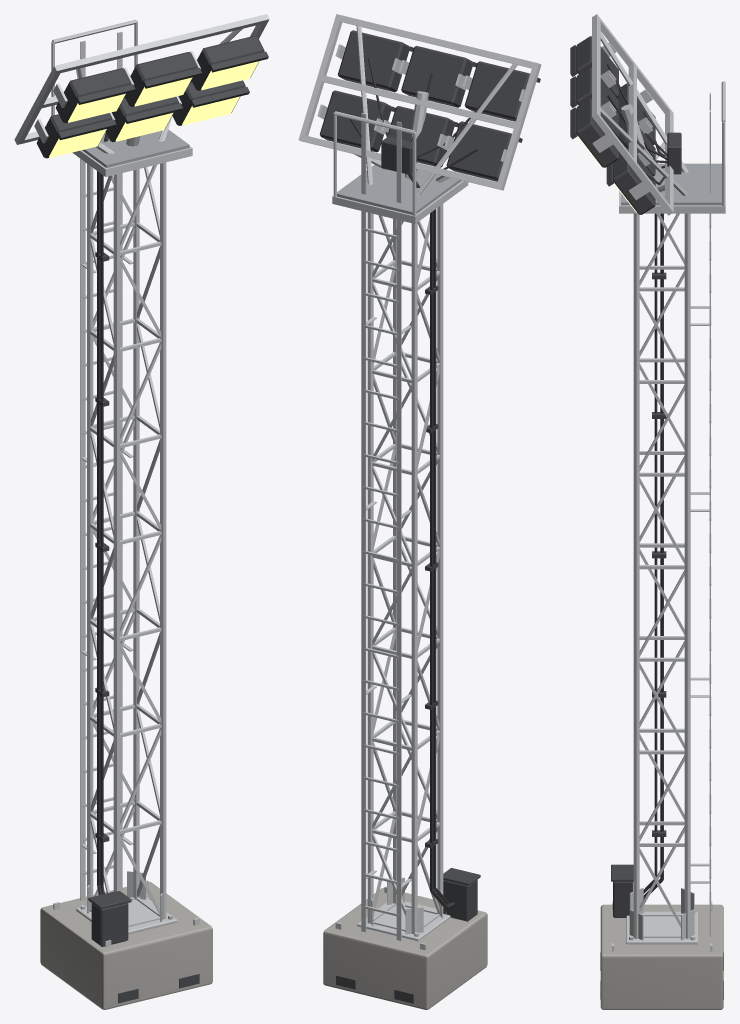
The model's file is flood_tower.glb.
3 renders of one model, left to right at view 1: azimuth 30°, elevation 25°; view 2: azimuth 150°, elevation 25°; view 3: azimuth 270°, elevation 25°, orthographic. The views are drawn at different scales.
Parts seen in each view (by area): view 1: flood_tower; view 2: flood_tower; view 3: flood_tower.
Part boxes in pixels (<box>): flood_tower: <box>14,14,269,1009</box>; flood_tower: <box>298,14,541,1009</box>; flood_tower: <box>570,14,725,1009</box>.
Size of the model in its own units: 2.3 by 9.91 by 1.52.
